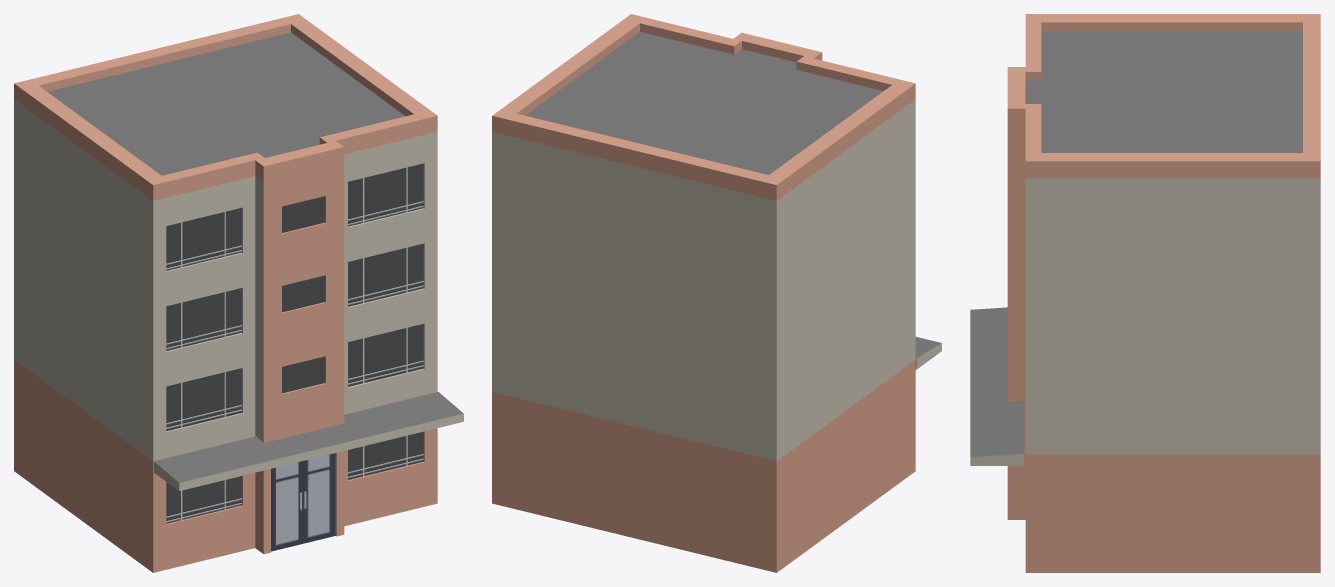
The model's file is Building Sky_small_color01.glb.
3 views of the same model, side by side, from view 1: azimuth 30°, elevation 25°; view 2: azimuth 150°, elevation 25°; view 3: azimuth 270°, elevation 25° (orthographic). The views are drawn at different scales.
Parts seen in each view (by area): view 1: Building Sky_small_color01; view 2: Building Sky_small_color01; view 3: Building Sky_small_color01.
Boxes of the visible parts, x1,y1,x2,y2 form: Building Sky_small_color01: (14,14,463,572); Building Sky_small_color01: (492,14,941,572); Building Sky_small_color01: (970,14,1320,572).
Size of the model in its own units: 1.04 by 1.35 by 1.05.
Materials: 1 (1 with a texture image).
